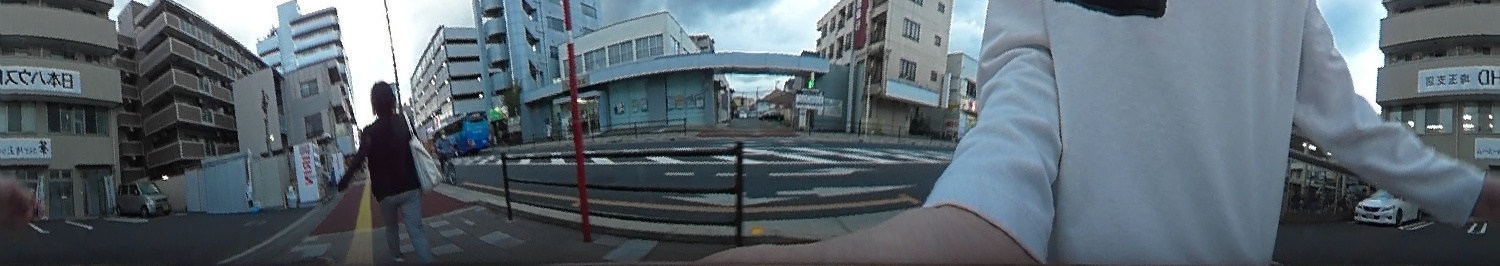difficult_person: (438, 126, 453, 169)
person: (328, 80, 441, 256)
